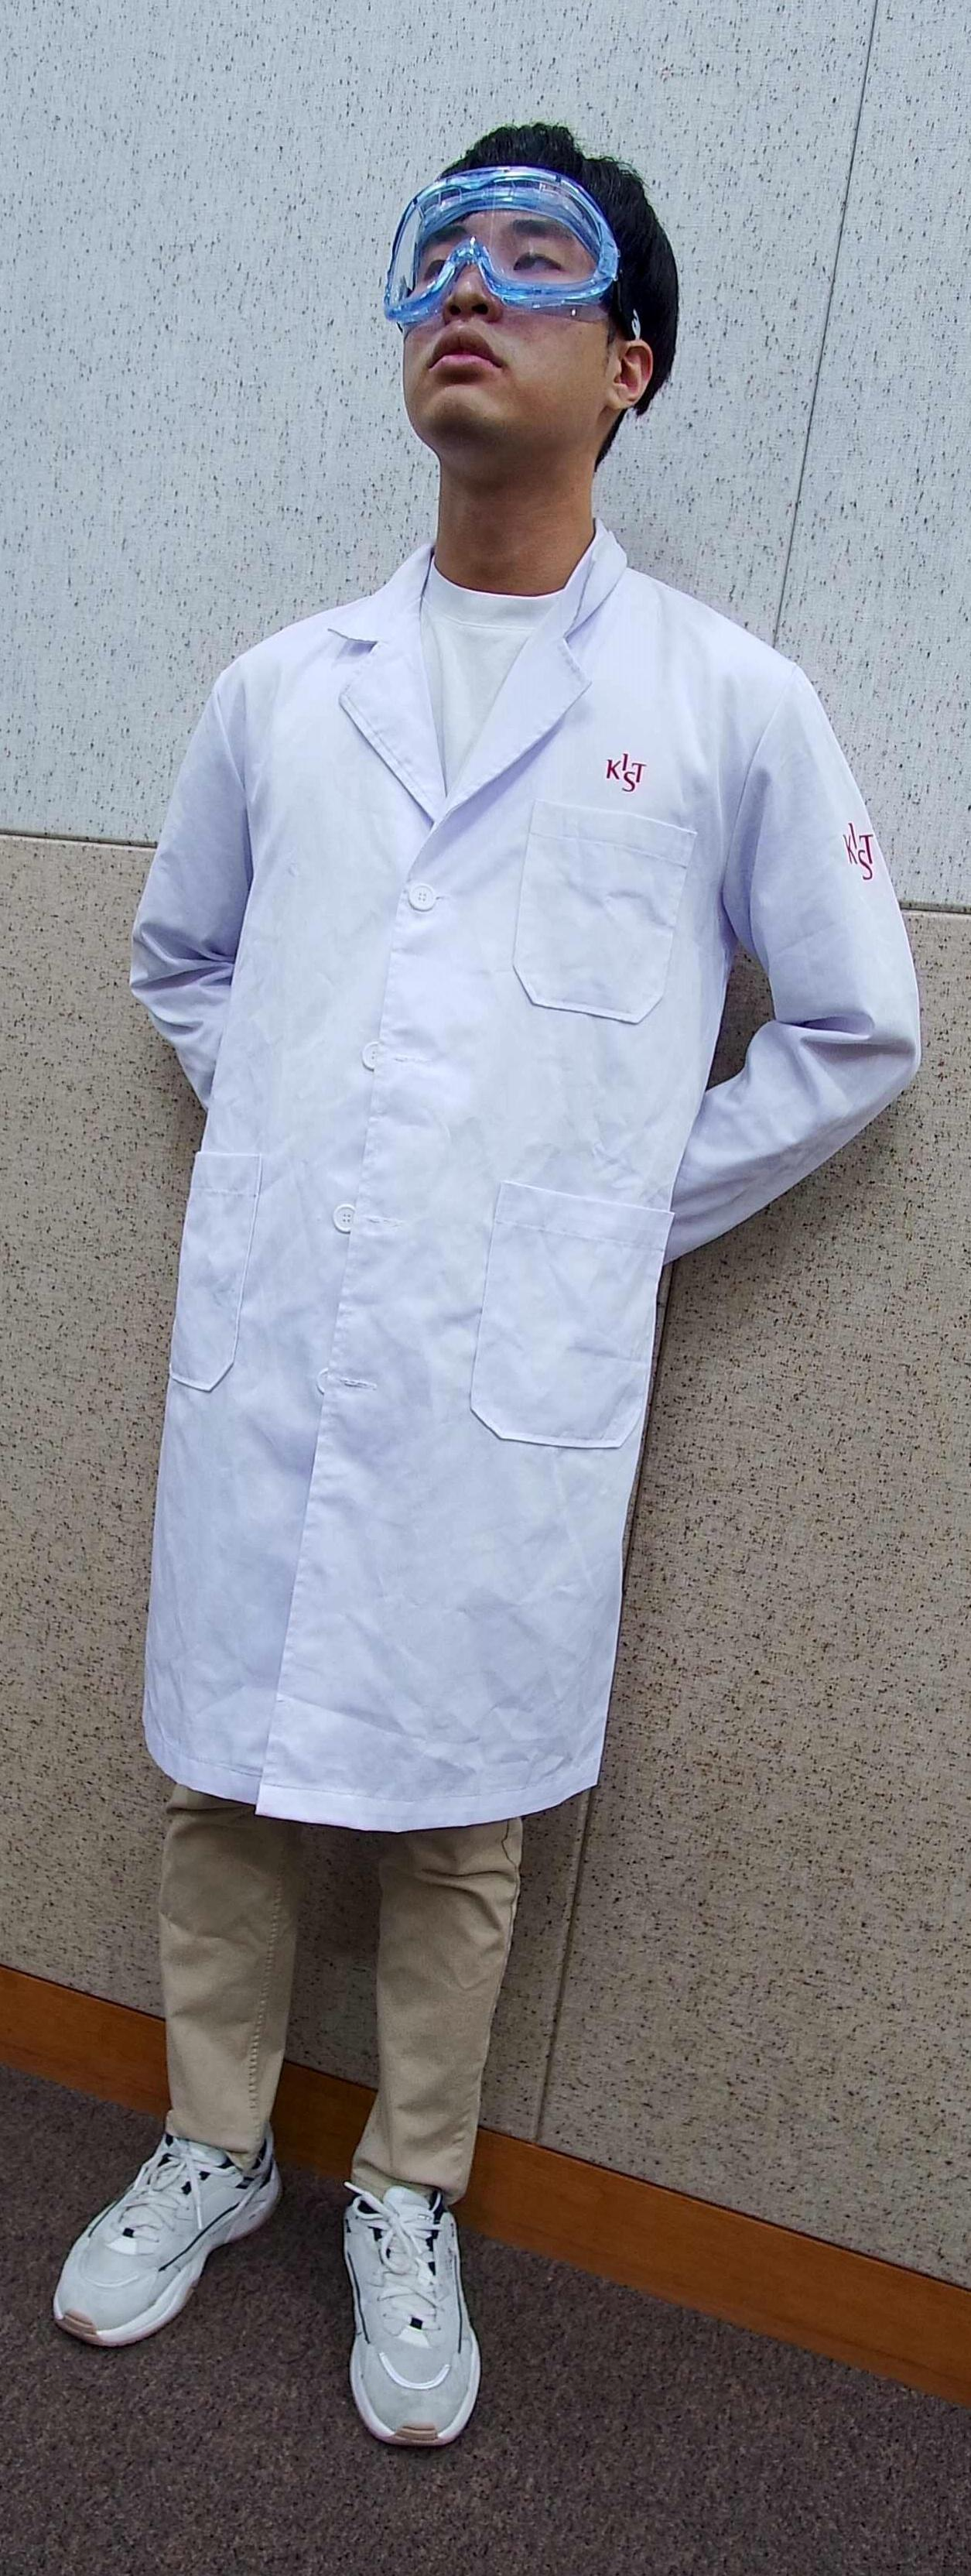lab_coat: (164, 644, 706, 1756)
